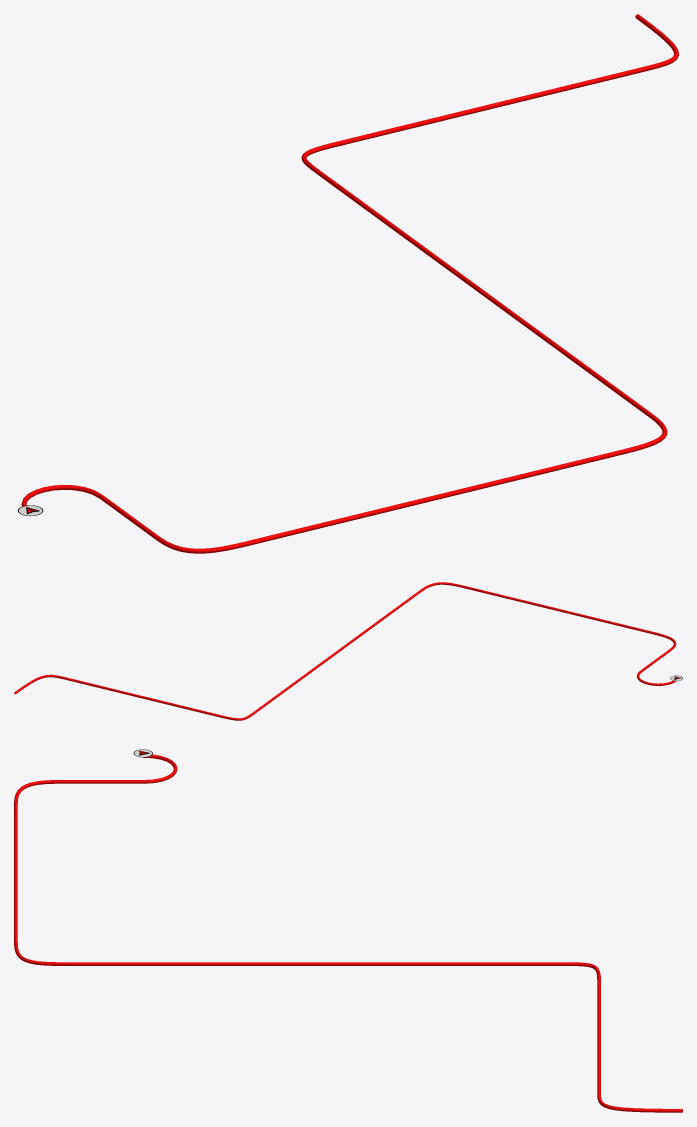
The model's file is route_d6047257-b9ee-4dd0-8ad5-037ddf2ac5ff_de_target.glb.
The picture shows the model from 3 angles, top to bottom: view 1: azimuth 30°, elevation 25°; view 2: azimuth 150°, elevation 25°; view 3: azimuth 270°, elevation 25°; orthographic projection. The views are drawn at different scales.
Parts seen in each view (by area): view 1: Station 11b (nicht-Geburtshilfe); view 2: Station 11b (nicht-Geburtshilfe); view 3: Station 11b (nicht-Geburtshilfe).
Boxes of the visible parts, <box> form: Station 11b (nicht-Geburtshilfe): <box>21,14,678,553</box>; Station 11b (nicht-Geburtshilfe): <box>14,582,676,720</box>; Station 11b (nicht-Geburtshilfe): <box>14,754,682,1112</box>.
Bounding box in the file's own units: 18.02 × 0.1086 × 14.16.
